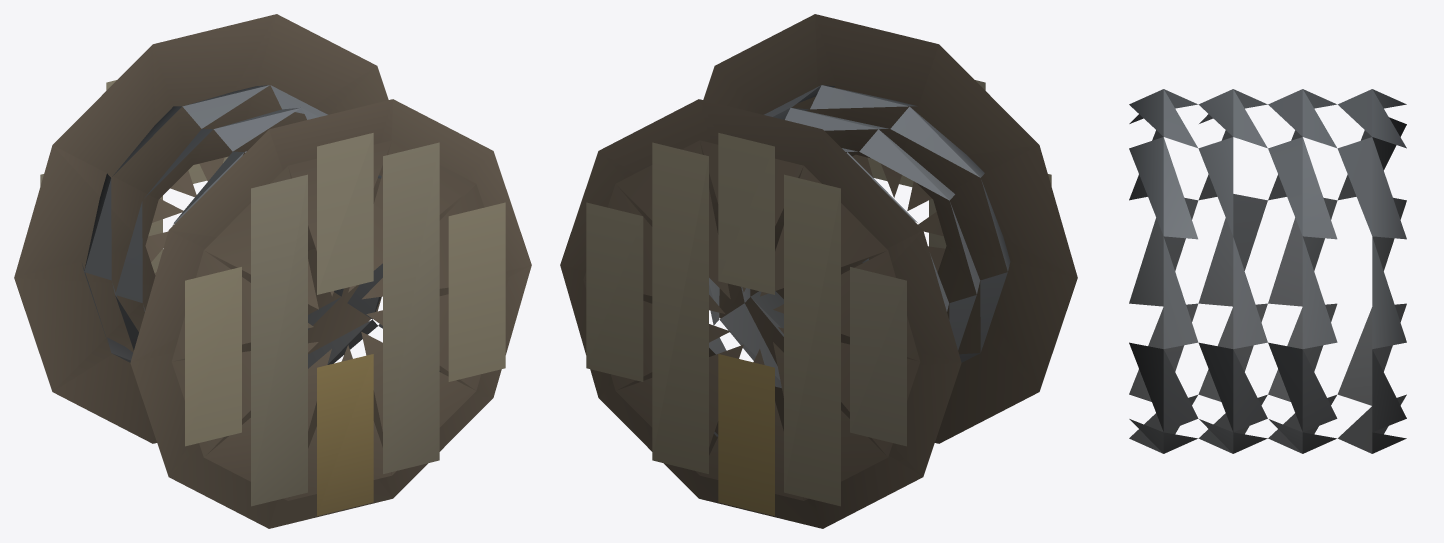
File: cable.lod.glb
The picture shows the model from 3 angles, left to right: view 1: azimuth 30°, elevation 25°; view 2: azimuth 150°, elevation 25°; view 3: azimuth 270°, elevation 25°; orthographic projection. The views are drawn at different scales.
Visible parts, largest first — view 1: cable; view 2: cable; view 3: cable.
Part boxes in pixels (x1,y1,x2,y2): cable: (14,14,531,528); cable: (560,14,1077,528); cable: (1129,89,1406,453).
Bounding box in the file's own units: 1.16 × 1.1 × 0.722.
